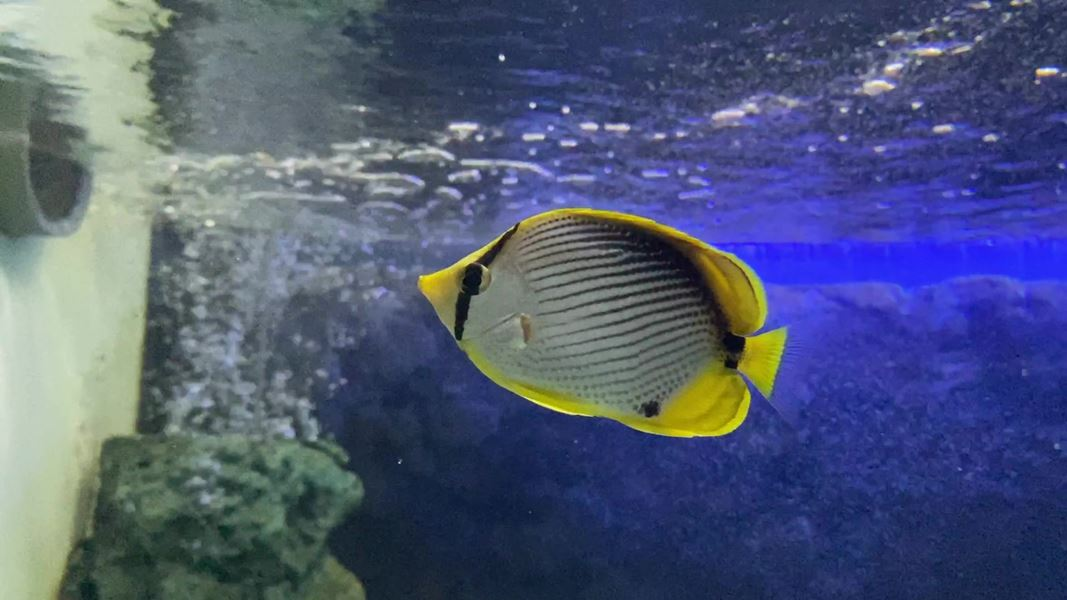Black-backed butterflyfish: (407, 197, 847, 459)
